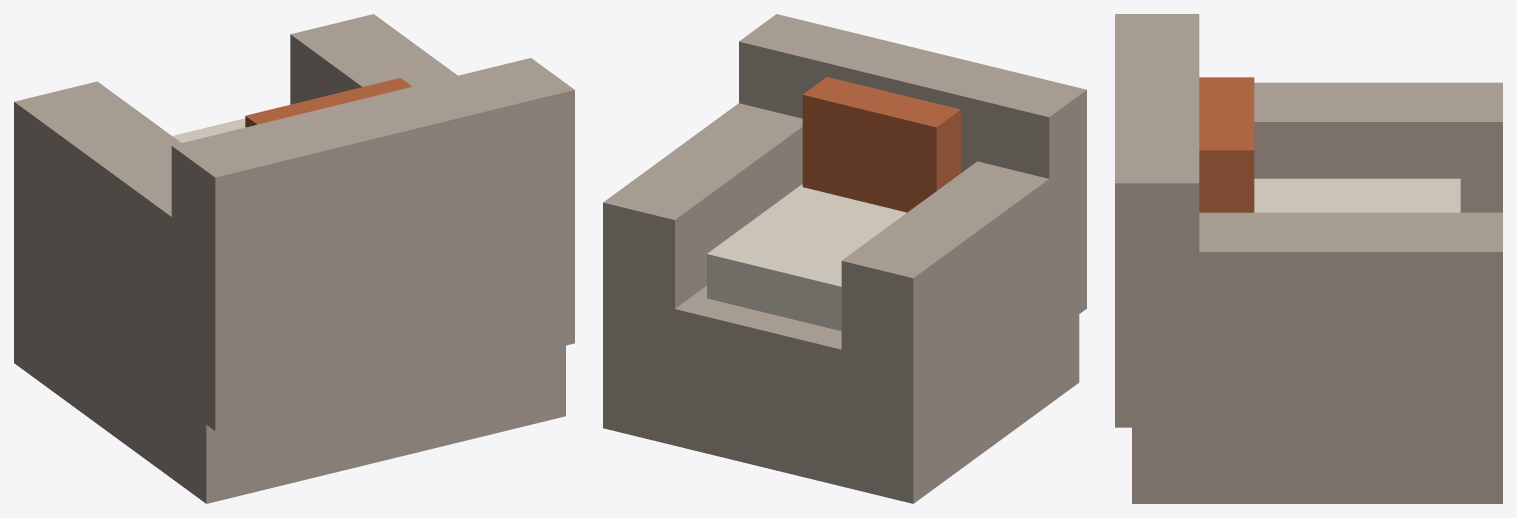
The picture shows the model from 3 angles, left to right: view 1: azimuth 30°, elevation 25°; view 2: azimuth 150°, elevation 25°; view 3: azimuth 270°, elevation 25°; orthographic projection. The views are drawn at different scales.
Visible parts, largest first — view 1: sillon_espera_o; view 2: sillon_espera_o; view 3: sillon_espera_o.
Boxes of the visible parts, x1,y1,x2,y2 form: sillon_espera_o: (14,14,574,503); sillon_espera_o: (603,14,1086,503); sillon_espera_o: (1115,14,1502,503).
Bounding box in the file's own units: 0.95 × 0.92 × 0.84.
